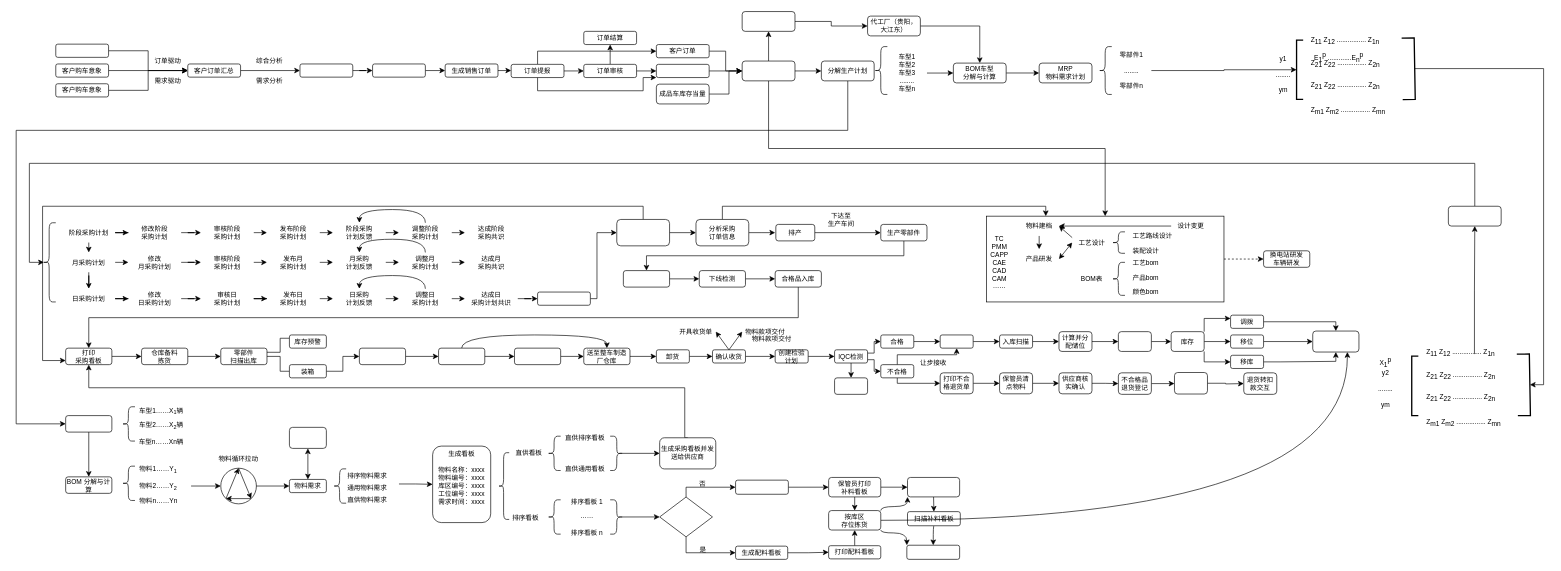
Image size: 1561x571. Some labels were removed from this diagram. Here are the shapes that lost their labels. From the top down, the box of each, then its label:
(742, 11, 795, 31): 目录公司 接收生产计划
(55, 43, 109, 57): 客户采购订单
(299, 63, 353, 77): 市场销售预测
(372, 63, 425, 77): 形成销售计划
(656, 64, 709, 78): 初始生产计划
(742, 60, 795, 81): MPS (主生产计划）
(616, 219, 670, 246): 供应商接受 采购订单
(1448, 206, 1501, 226): 生成滚动采购计划
(537, 291, 590, 305): 发送采购订单
(623, 270, 670, 287): 产品下线
(359, 347, 406, 365): 物流配送
(438, 347, 485, 365): 在途物流 跟踪监控
(514, 347, 561, 365): 送至 集货中心
(940, 334, 973, 348): 入料入库
(1118, 331, 1151, 351): 按储位上架
(1312, 330, 1359, 352): 更新库存及存储位置
(834, 377, 868, 394): 出具检测 结论
(1174, 372, 1207, 394): 不合品格返供应商
(65, 415, 112, 432): 日生产计划
(289, 427, 326, 448): 物料固有 供应关系
(735, 479, 788, 494): 生成补料看板
(907, 477, 960, 497): 补料至暂存区
(659, 496, 712, 537): 缓存区是否 满足看板需求
(906, 545, 960, 559): 备料员备料
